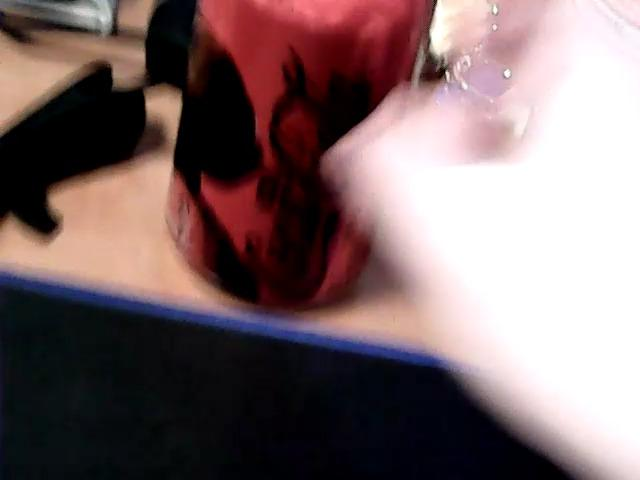coke: (165, 2, 430, 309)
